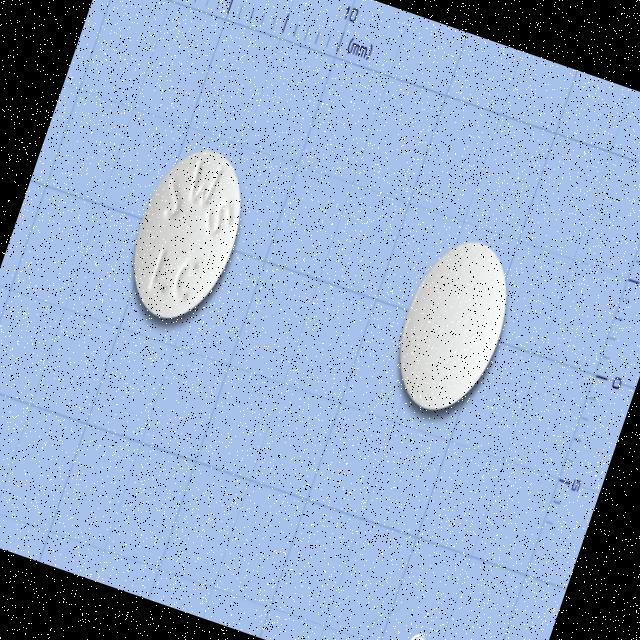Procin Tab: (114, 136, 260, 334), (380, 228, 526, 422)
